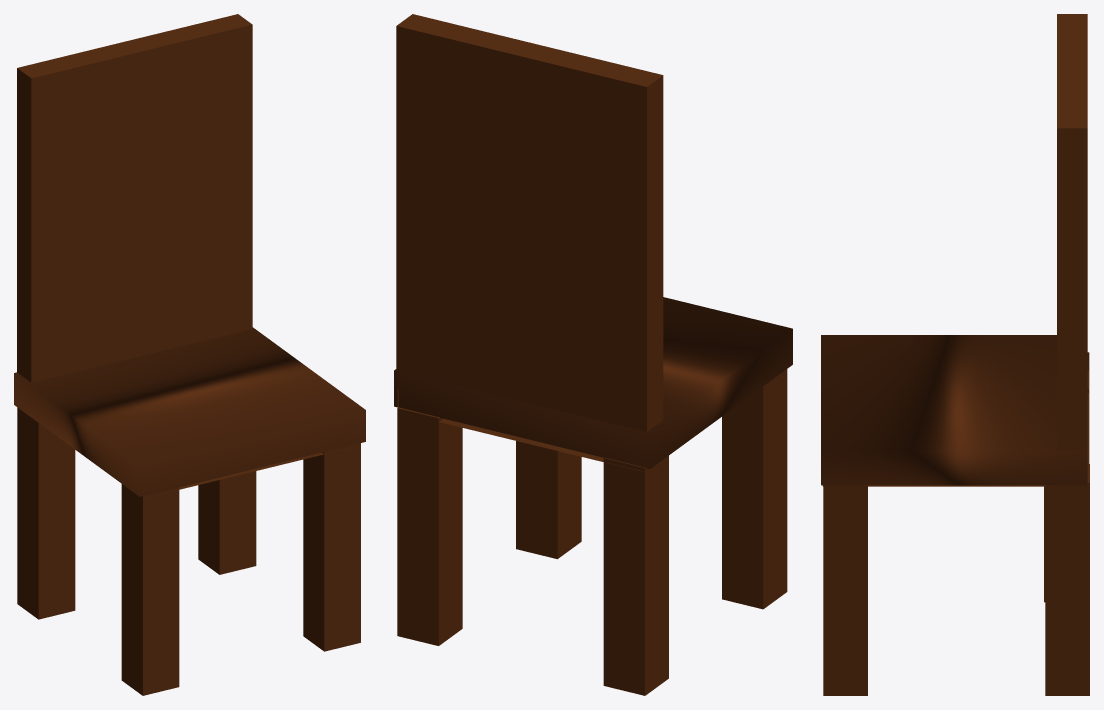
The model's file is стул.fbx.
3 views of the same model, side by side, from view 1: azimuth 30°, elevation 25°; view 2: azimuth 150°, elevation 25°; view 3: azimuth 270°, elevation 25° (orthographic). The views are drawn at different scales.
Visible parts, largest first — view 1: Cube.005; view 2: Cube.005; view 3: Cube.005.
Part boxes in pixels (x1,y1,x2,y2): Cube.005: (14,14,365,695); Cube.005: (394,14,792,695); Cube.005: (821,14,1089,695).
Bounding box in the file's own units: 207 × 471 × 202.
